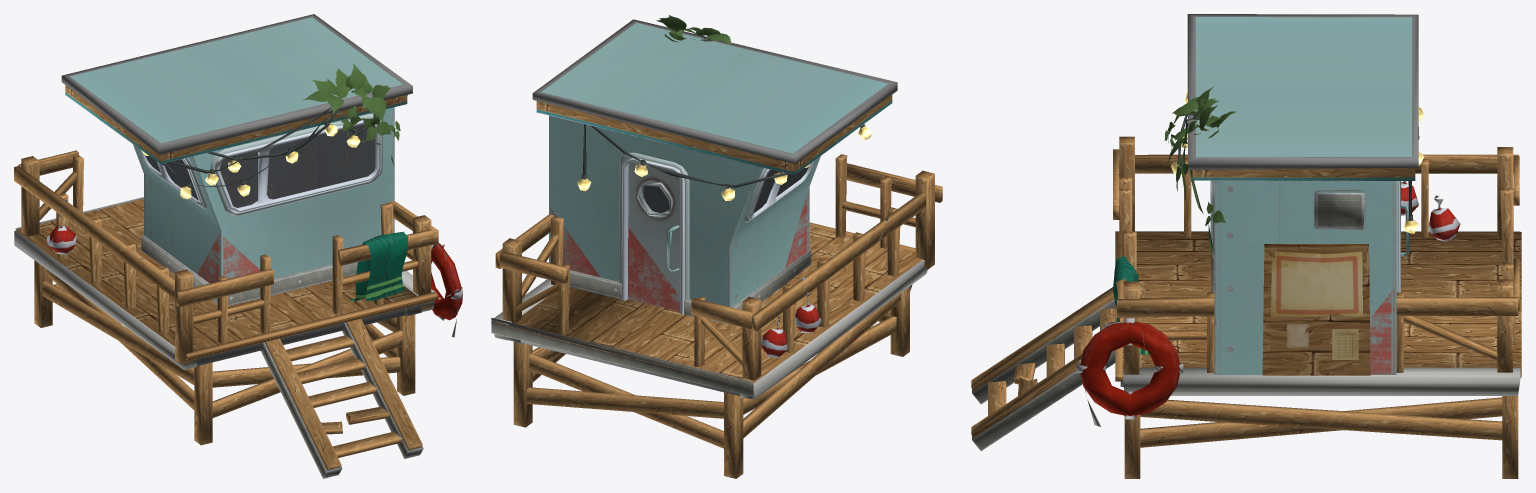
Rendered from torre_soc.glb.
3 renders of one model, left to right at view 1: azimuth 30°, elevation 25°; view 2: azimuth 150°, elevation 25°; view 3: azimuth 270°, elevation 25°, orthographic. The views are drawn at different scales.
Visible parts, largest first — view 1: norm; view 2: norm; view 3: norm.
Part boxes in pixels (<box>): norm: <box>14,14,462,478</box>; norm: <box>491,15,942,478</box>; norm: <box>971,14,1521,478</box>.
Bounding box in the file's own units: 4.71 × 5 × 6.81.
2 materials, 2 textured.
